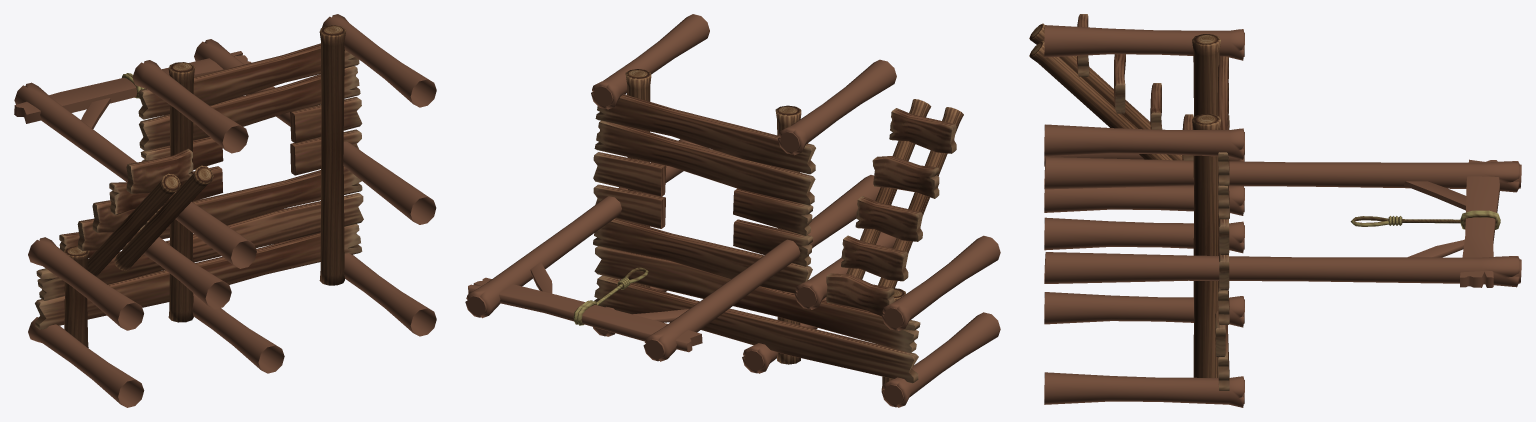
The model's file is Gallows01.FBX.
The picture shows the model from 3 angles, left to right: view 1: azimuth 30°, elevation 25°; view 2: azimuth 150°, elevation 25°; view 3: azimuth 270°, elevation 25°; orthographic projection. The views are drawn at different scales.
Parts seen in each view (by area): view 1: Gallows_floor, Gallows_wood; view 2: Gallows_floor, Gallows_wood, Gallows_rope; view 3: Gallows_wood, Gallows_floor, Gallows_rope.
Boxes of the visible parts, <box> form: Gallows_floor: <box>35,25,363,347</box>; Gallows_wood: <box>14,14,436,407</box>; Gallows_floor: <box>593,69,963,390</box>; Gallows_wood: <box>465,14,1000,407</box>; Gallows_rope: <box>573,267,648,325</box>; Gallows_wood: <box>1044,25,1521,407</box>; Gallows_floor: <box>1029,14,1229,390</box>; Gallows_rope: <box>1350,210,1500,229</box>.
Bounding box in the file's own units: 5.48 × 4.09 × 6.55.
